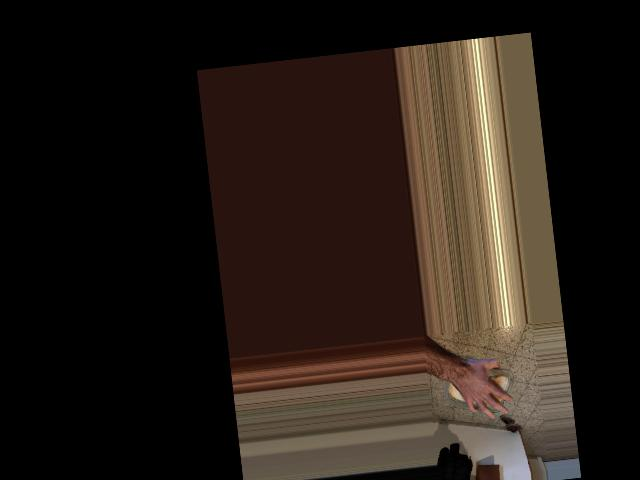cheese: (443, 350, 515, 421)
